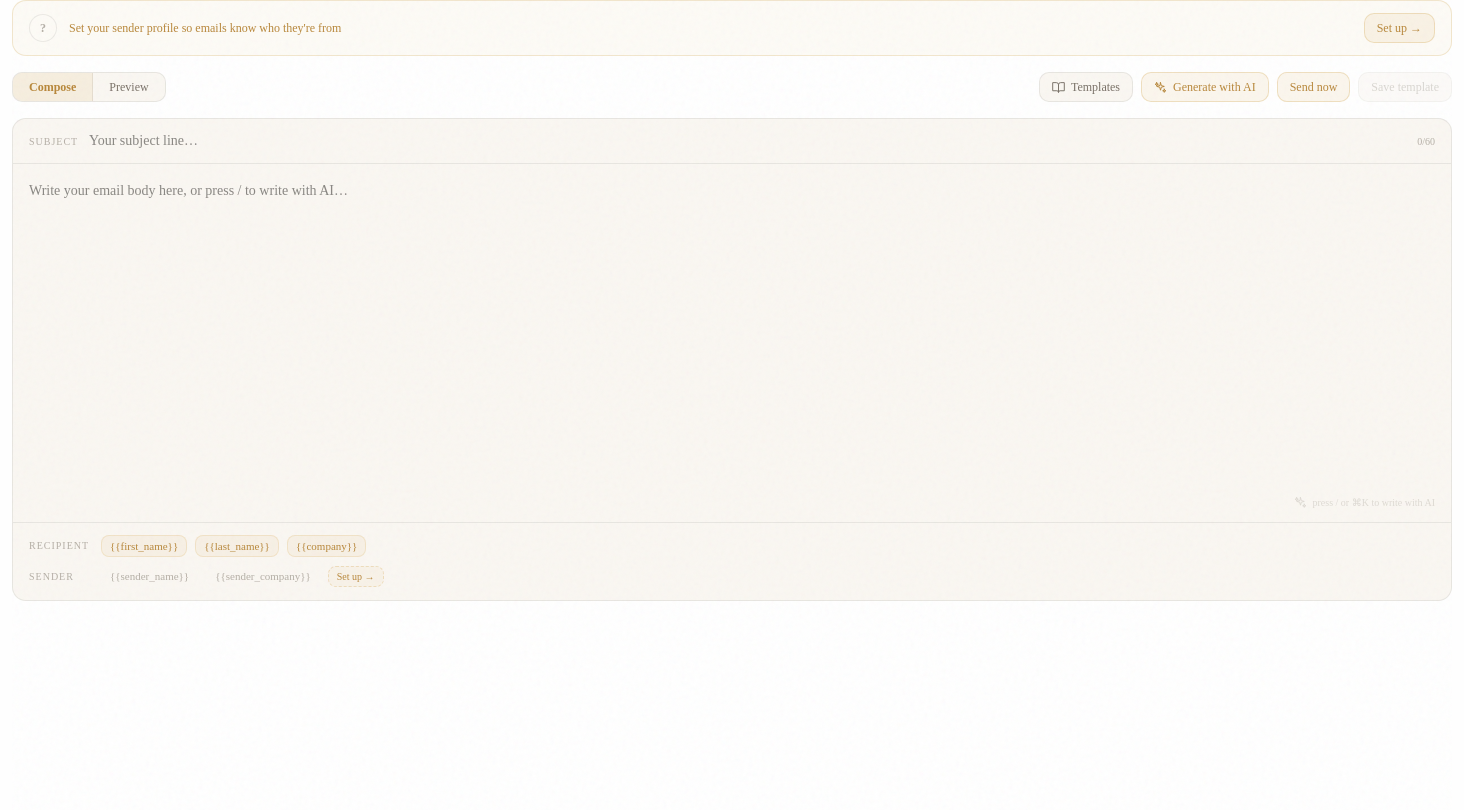
it: EmailComposer › shows error when AI generation returns an error
Click the button "Generate with AI" at (1205, 87), box [1141, 72, 1269, 102]
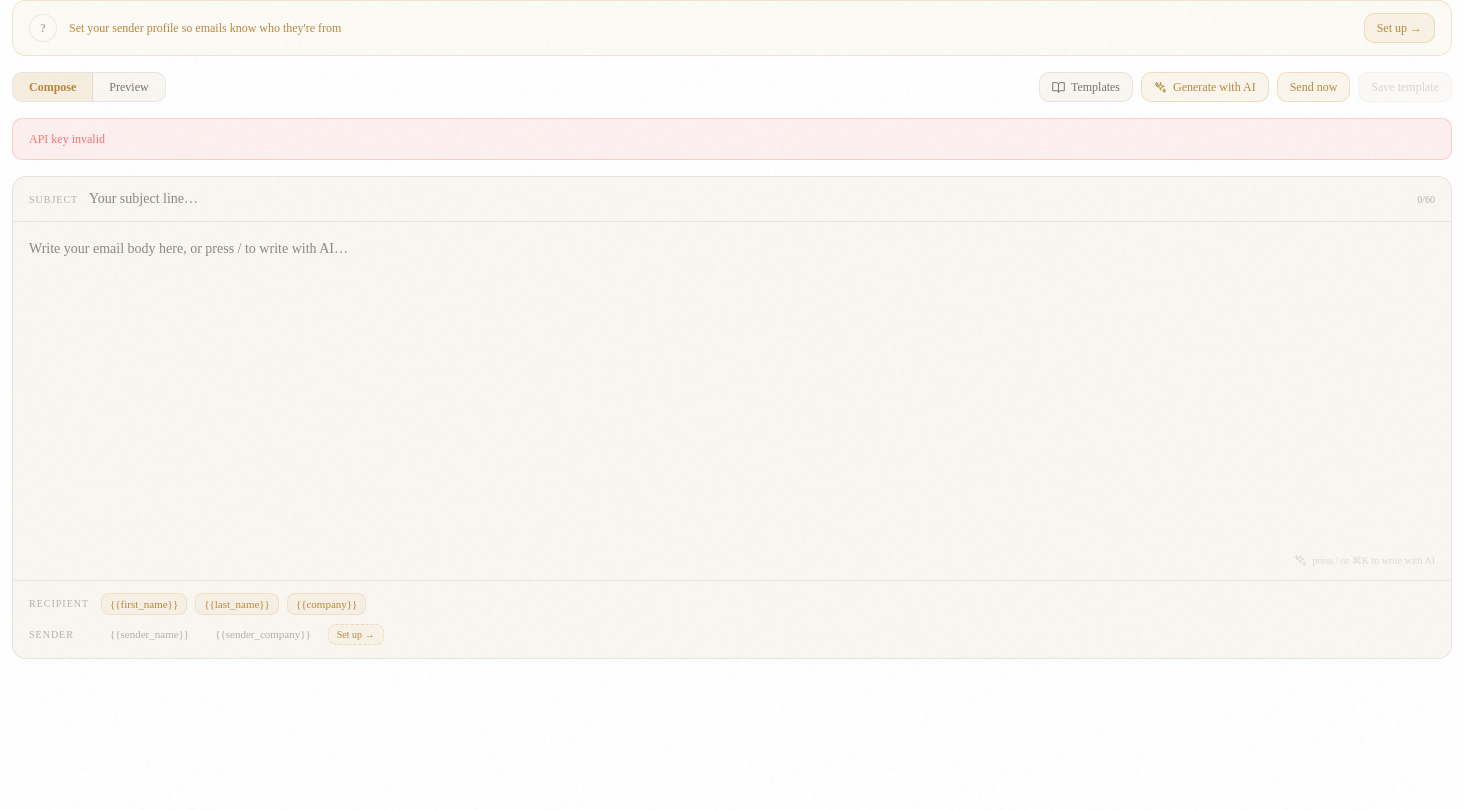
Result: the text "API key invalid" is shown at [12, 118, 1452, 160]
